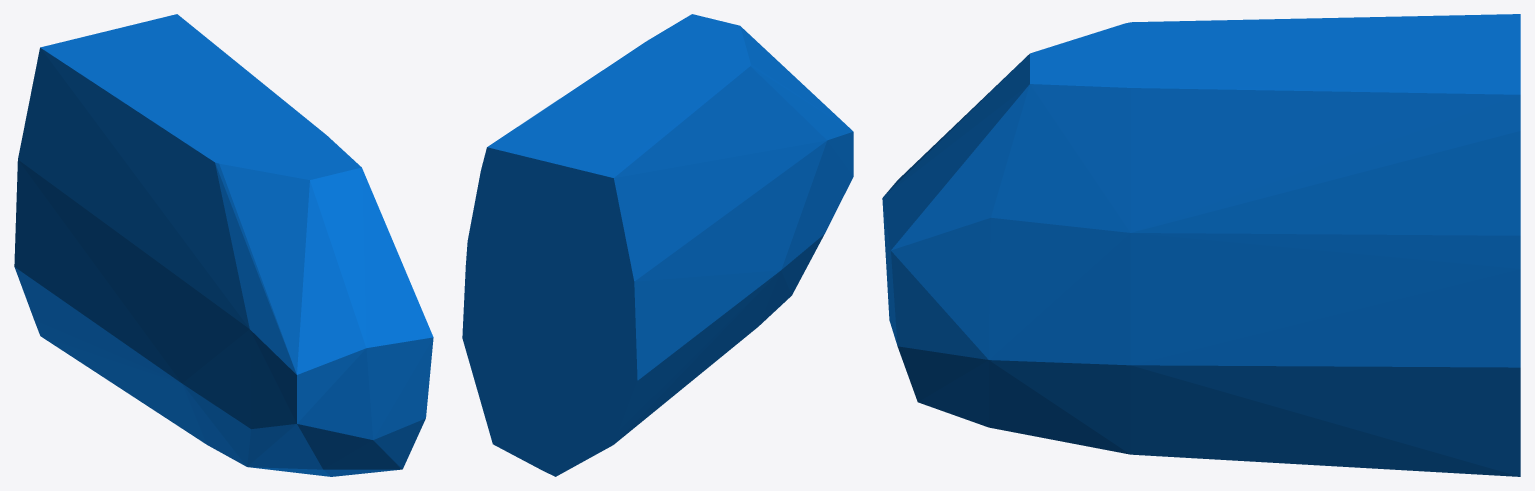
3 views of the same model, side by side, from view 1: azimuth 30°, elevation 25°; view 2: azimuth 150°, elevation 25°; view 3: azimuth 270°, elevation 25° (orthographic). The views are drawn at different scales.
Bounding box in the file's own units: 1.64 × 2.8 × 3.97.
